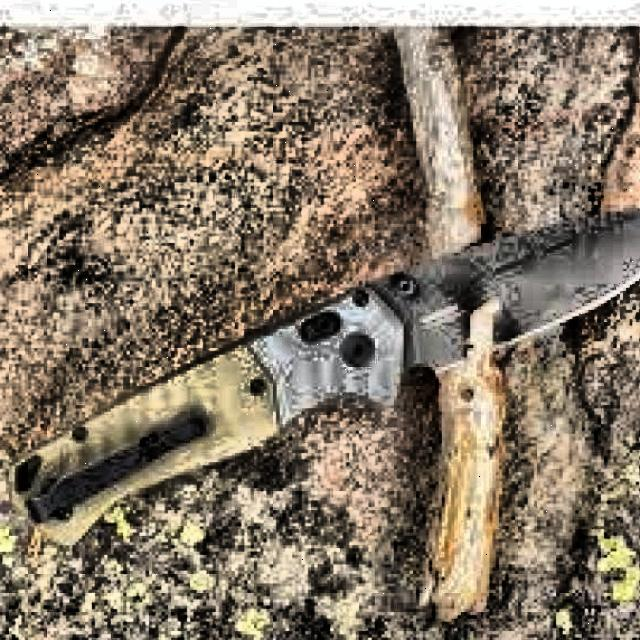knife: (9, 190, 640, 536)
